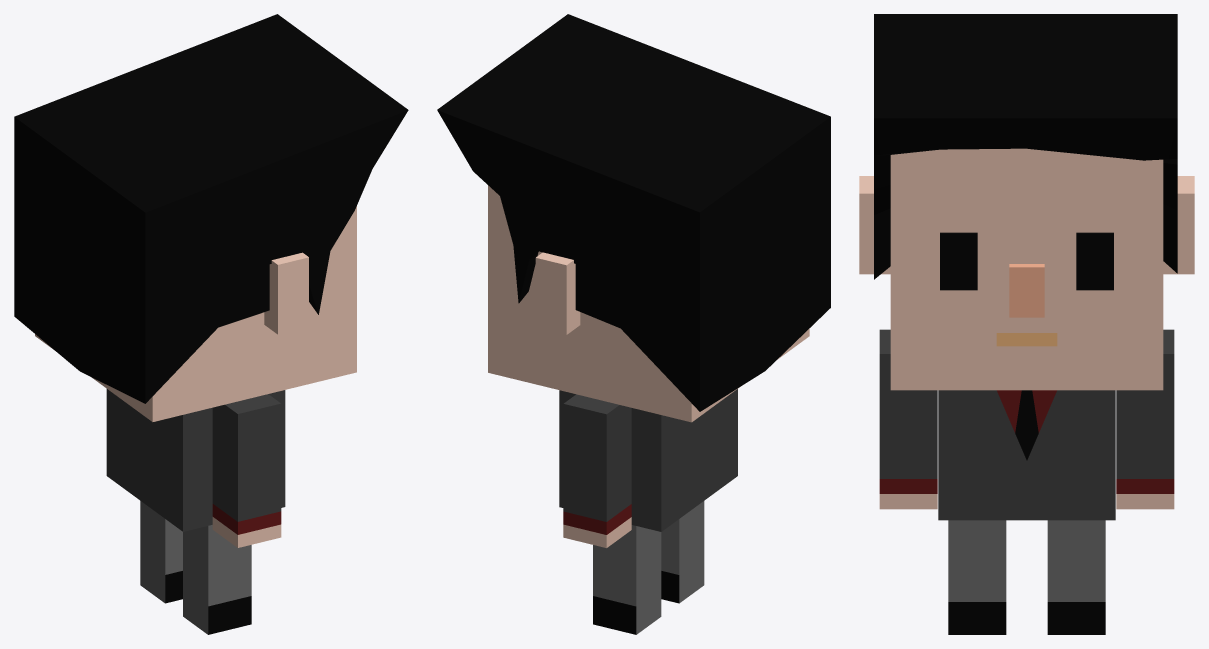
The model's file is orang_3_abu.fbx.
The picture shows the model from 3 angles, left to right: view 1: azimuth 30°, elevation 25°; view 2: azimuth 150°, elevation 25°; view 3: azimuth 270°, elevation 25°; orthographic projection. The views are drawn at different scales.
Visible parts, largest first — view 1: Human.004; view 2: Human.004; view 3: Human.004.
Part boxes in pixels (x1,y1,x2,y2): Human.004: (14,14,408,634); Human.004: (437,14,830,634); Human.004: (859,14,1194,634).
Bounding box in the file's own units: 129 × 237 × 123.
Materials: 1 (1 with a texture image).
